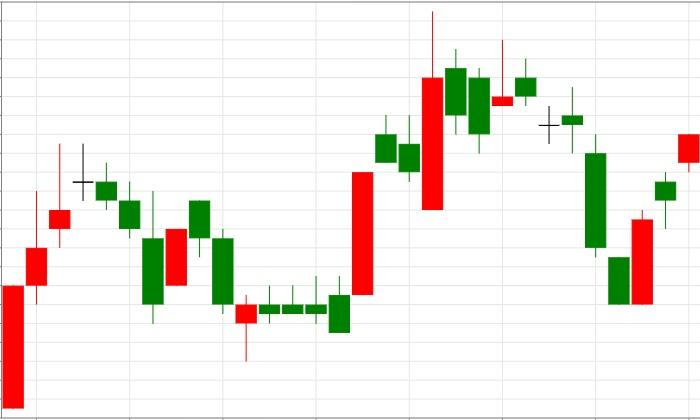bullish_engulfing_rise: (514, 57, 654, 306)
three_black_crows_fall: (2, 144, 165, 409)
